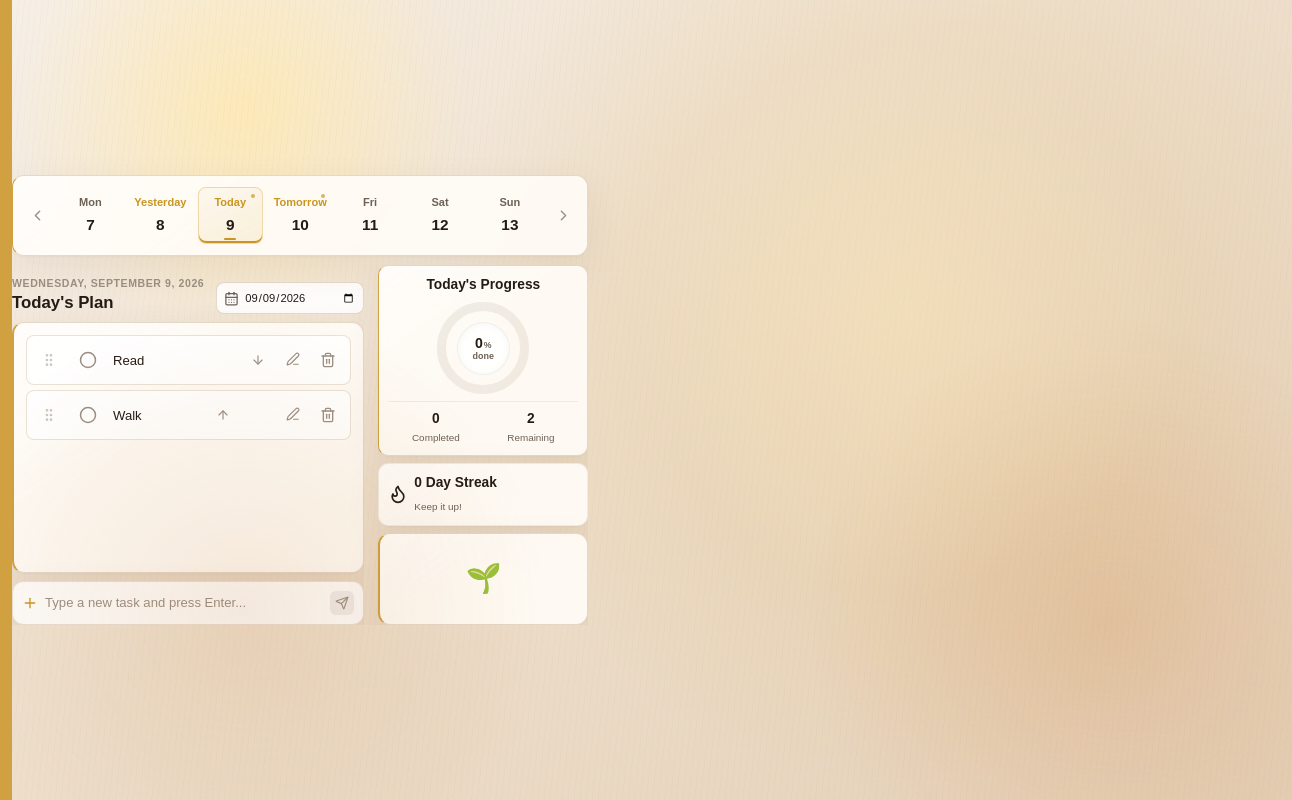
Scenario: DailyPlanner interactions › uses the confirmed server snapshot when only part of a reorder was saved
Click the button named "Read: Move down" at (258, 360), box [244,344,272,376]
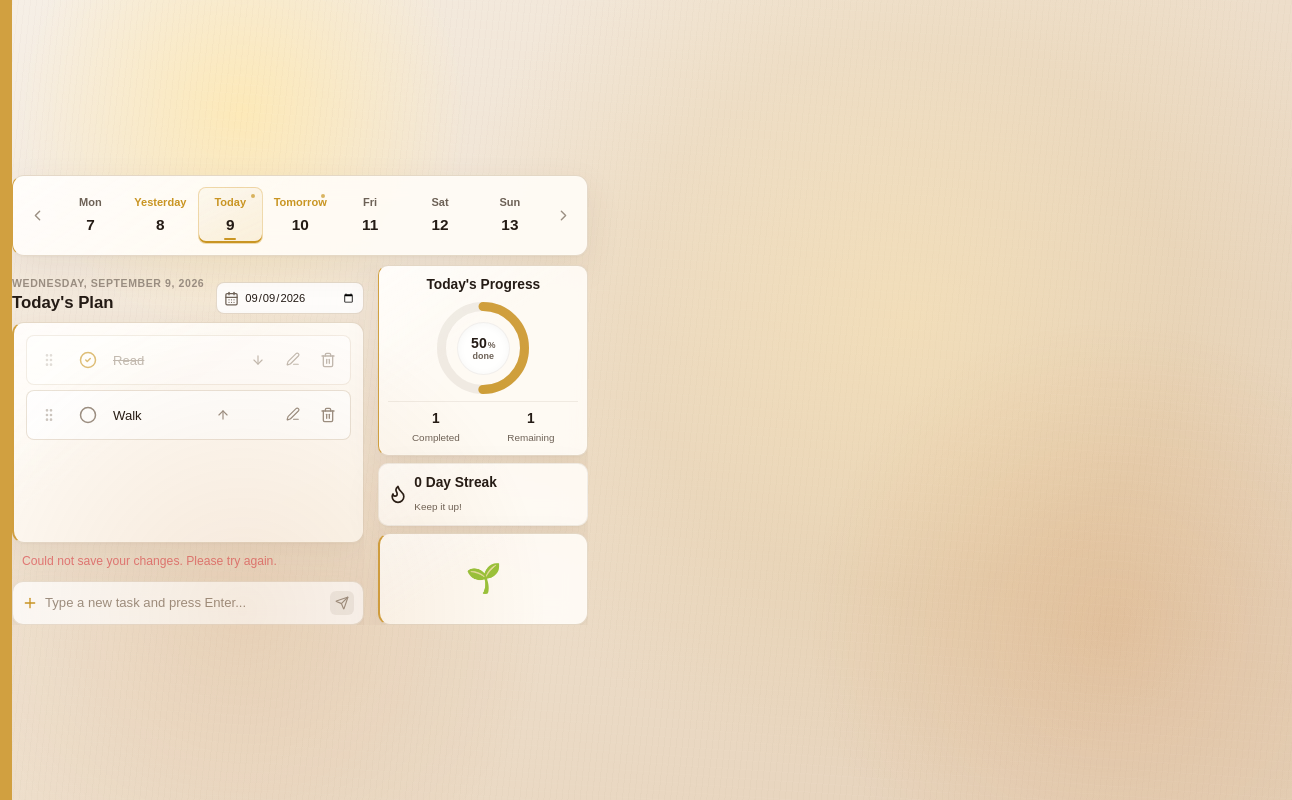
Expected: the text with class "task-text" reads "Read", [113,352,144,368]
Now the message "Could not save your changes. Please try again." is shown, box [22,554,277,568]
